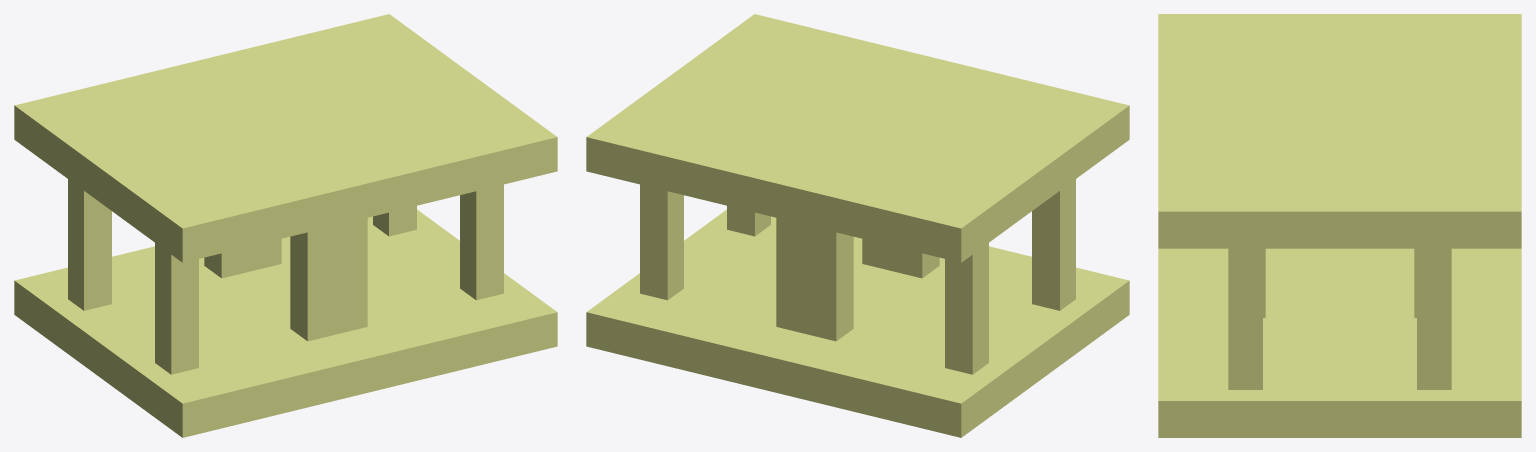
File: dklhscbkadsjf.fbx
The picture shows the model from 3 angles, left to right: view 1: azimuth 30°, elevation 25°; view 2: azimuth 150°, elevation 25°; view 3: azimuth 270°, elevation 25°; orthographic projection. The views are drawn at different scales.
Parts seen in each view (by area): view 1: Cube; view 2: Cube; view 3: Cube.
Part boxes in pixels (x1,y1,x2,y2): Cube: [14, 14, 557, 437]; Cube: [586, 14, 1129, 437]; Cube: [1158, 14, 1521, 437].
Bounding box in the file's own units: 1143 × 610 × 888.
